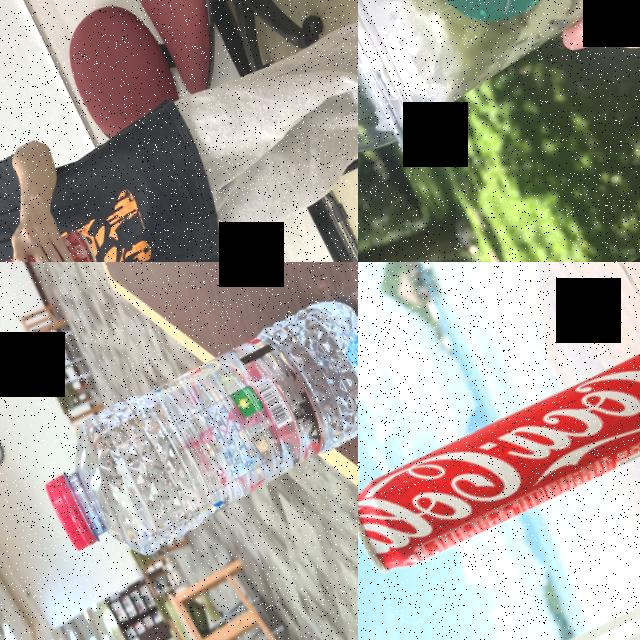bottle: (16, 279, 358, 585)
can: (358, 328, 640, 584), (0, 221, 102, 262)
cup: (358, 0, 640, 206)
